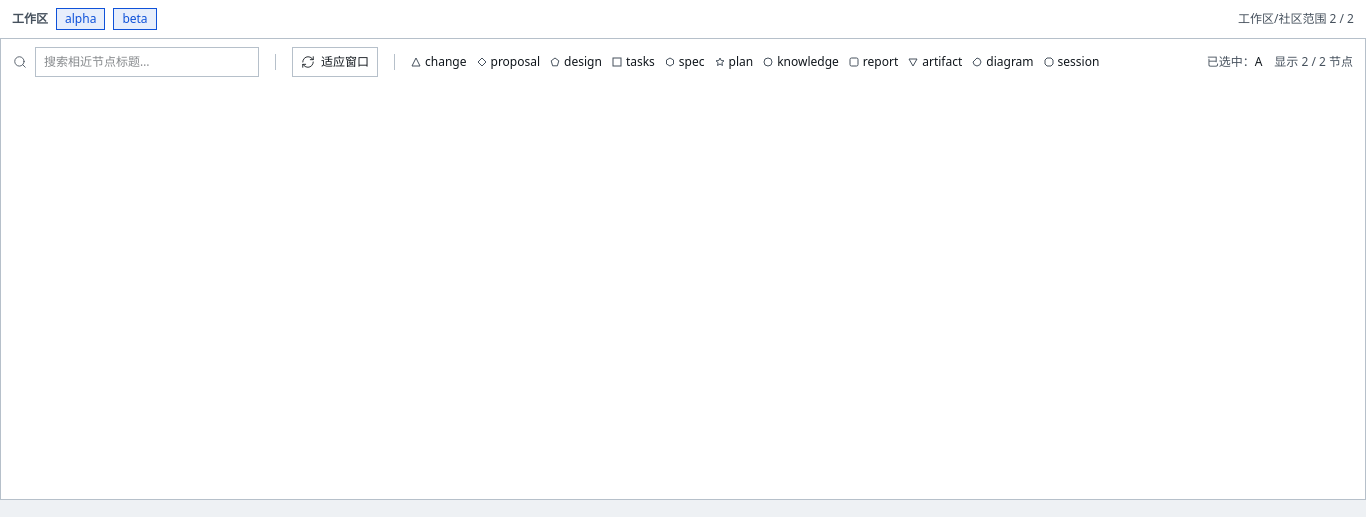
WikiGraph › clears the selected-node notice when filtering rebuilds the graph
This screenshot has width=1366, height=517.
Expected: the text "已选中：A" is shown, [1207,52,1262,72]
Click the button with test id "workspace-chip" at coordinates (81, 19), box [56,8,105,30]
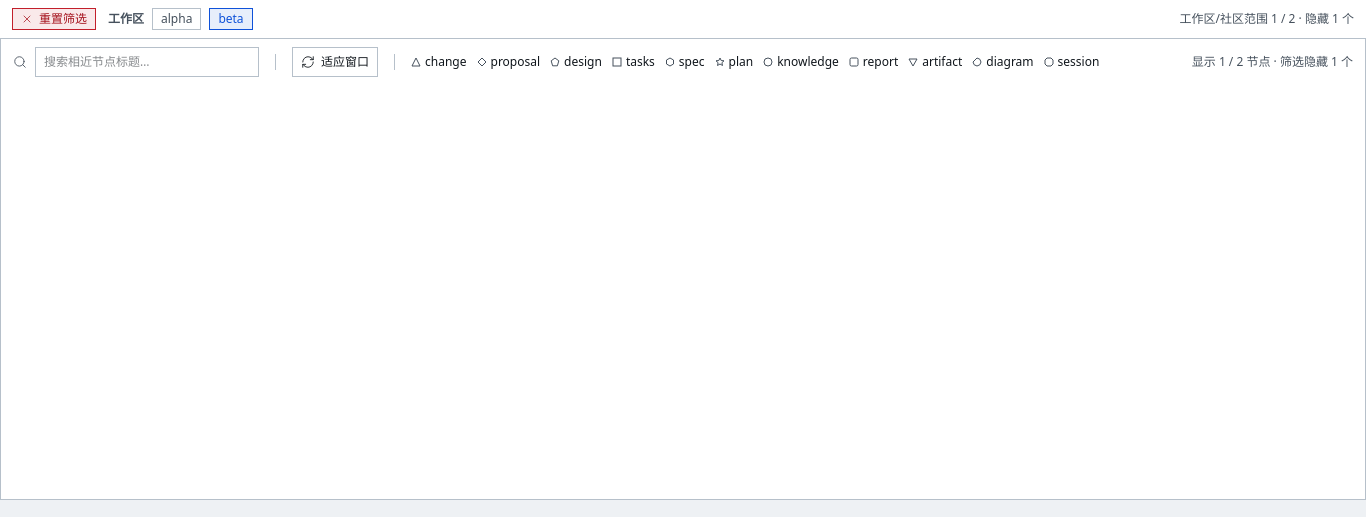
Now the text "已选中：" is gone
